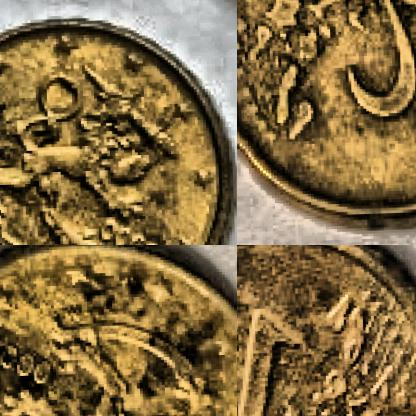coin: (0, 11, 236, 244), (237, 0, 415, 232), (0, 245, 236, 415), (237, 245, 415, 415)
